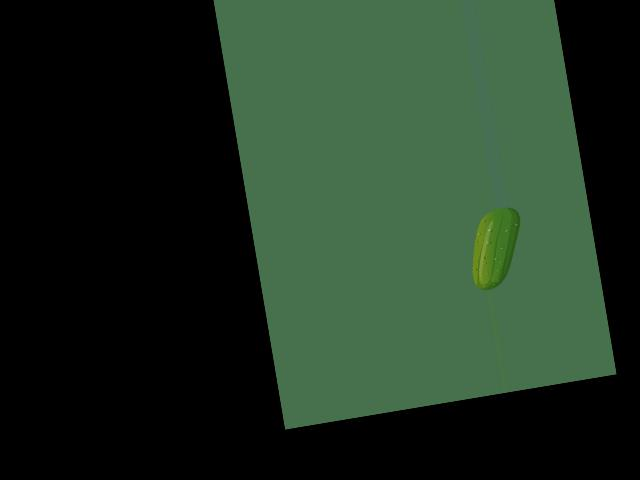cucumber: (463, 205, 531, 291)
